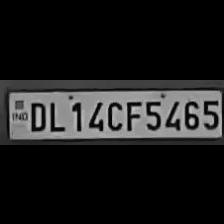1: (66, 97, 84, 130)
4: (84, 97, 104, 130), (162, 96, 180, 130)
5: (142, 96, 162, 130), (200, 95, 220, 129)
6: (181, 96, 199, 130)
C: (104, 97, 122, 129)
D: (26, 98, 46, 130)
F: (124, 98, 140, 130)
L: (46, 97, 66, 131)
